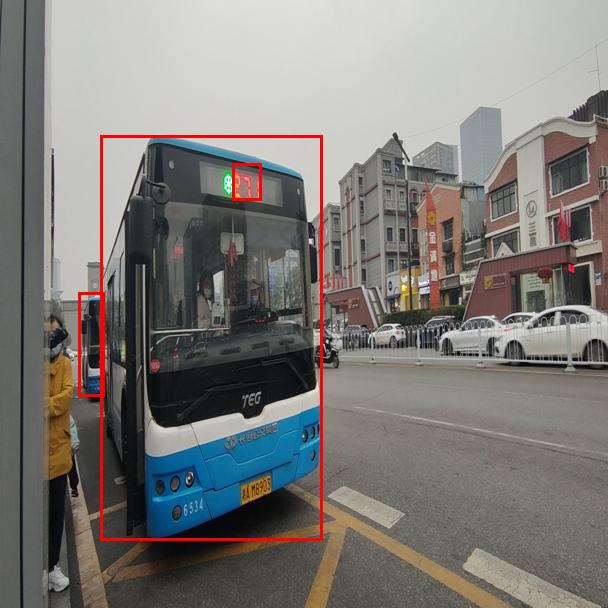bus: (100, 135, 322, 540), (78, 292, 104, 396)
screen: (232, 163, 261, 200)
